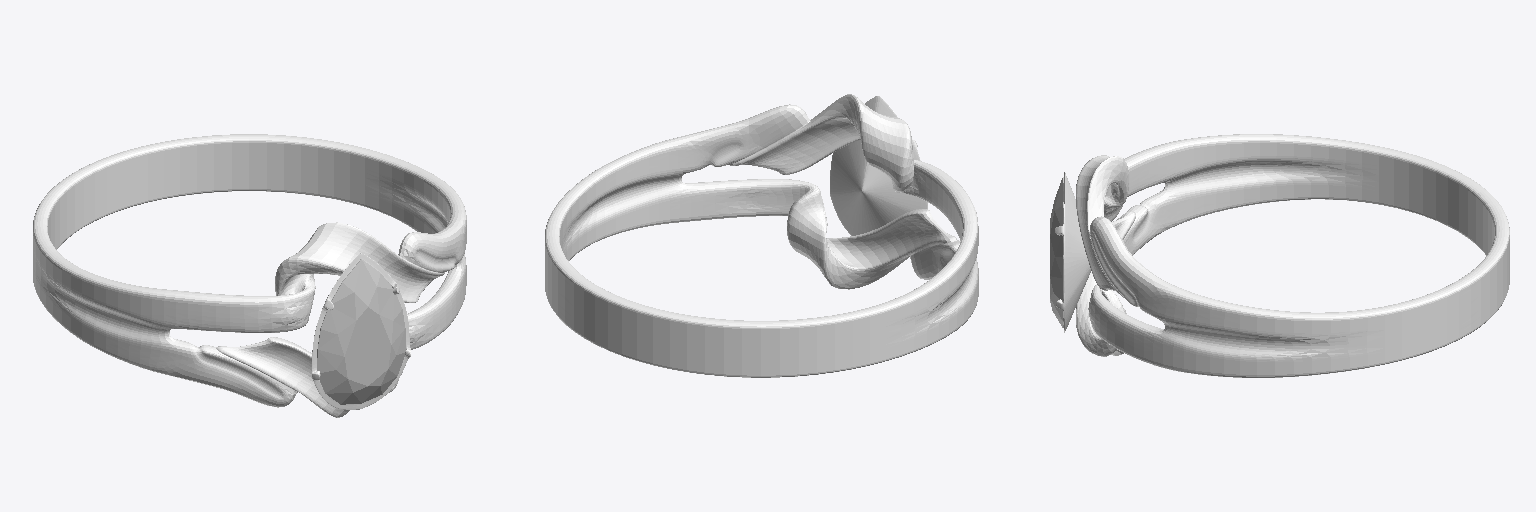
File: 13506_Diamond_Ring_v1_l3.obj
3 views of the same model, side by side, from view 1: azimuth 30°, elevation 25°; view 2: azimuth 150°, elevation 25°; view 3: azimuth 270°, elevation 25° (orthographic).
Visible parts, largest first — view 1: 13506_Diamond_Wedding_Ring_ring, 13506_Diamond_Wedding_Ring_diamond; view 2: 13506_Diamond_Wedding_Ring_ring; view 3: 13506_Diamond_Wedding_Ring_ring, 13506_Diamond_Wedding_Ring_diamond.
Part boxes in pixels (left/top/right/bottom): 13506_Diamond_Wedding_Ring_ring: left=33, top=134, right=466, bottom=417; 13506_Diamond_Wedding_Ring_diamond: left=317, top=259, right=405, bottom=404; 13506_Diamond_Wedding_Ring_ring: left=545, top=94, right=978, bottom=377; 13506_Diamond_Wedding_Ring_ring: left=1055, top=134, right=1509, bottom=377; 13506_Diamond_Wedding_Ring_diamond: left=1050, top=177, right=1063, bottom=327.
Bounding box in the file's own units: 2.79 × 1.38 × 2.97.